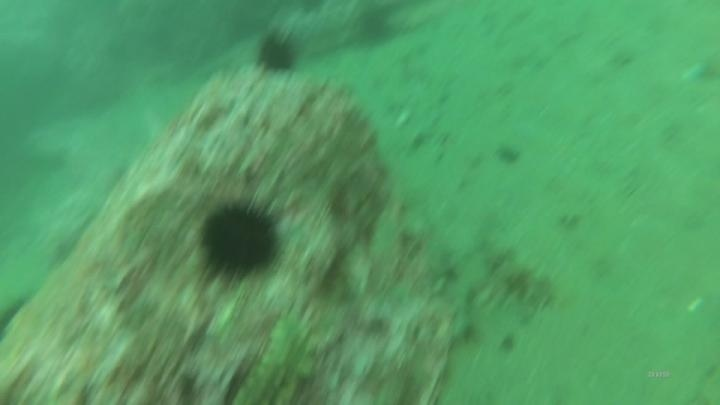echinus: (193, 194, 287, 286), (253, 30, 302, 78), (352, 5, 397, 48)
holothurian: (232, 306, 326, 405), (478, 241, 567, 314)
